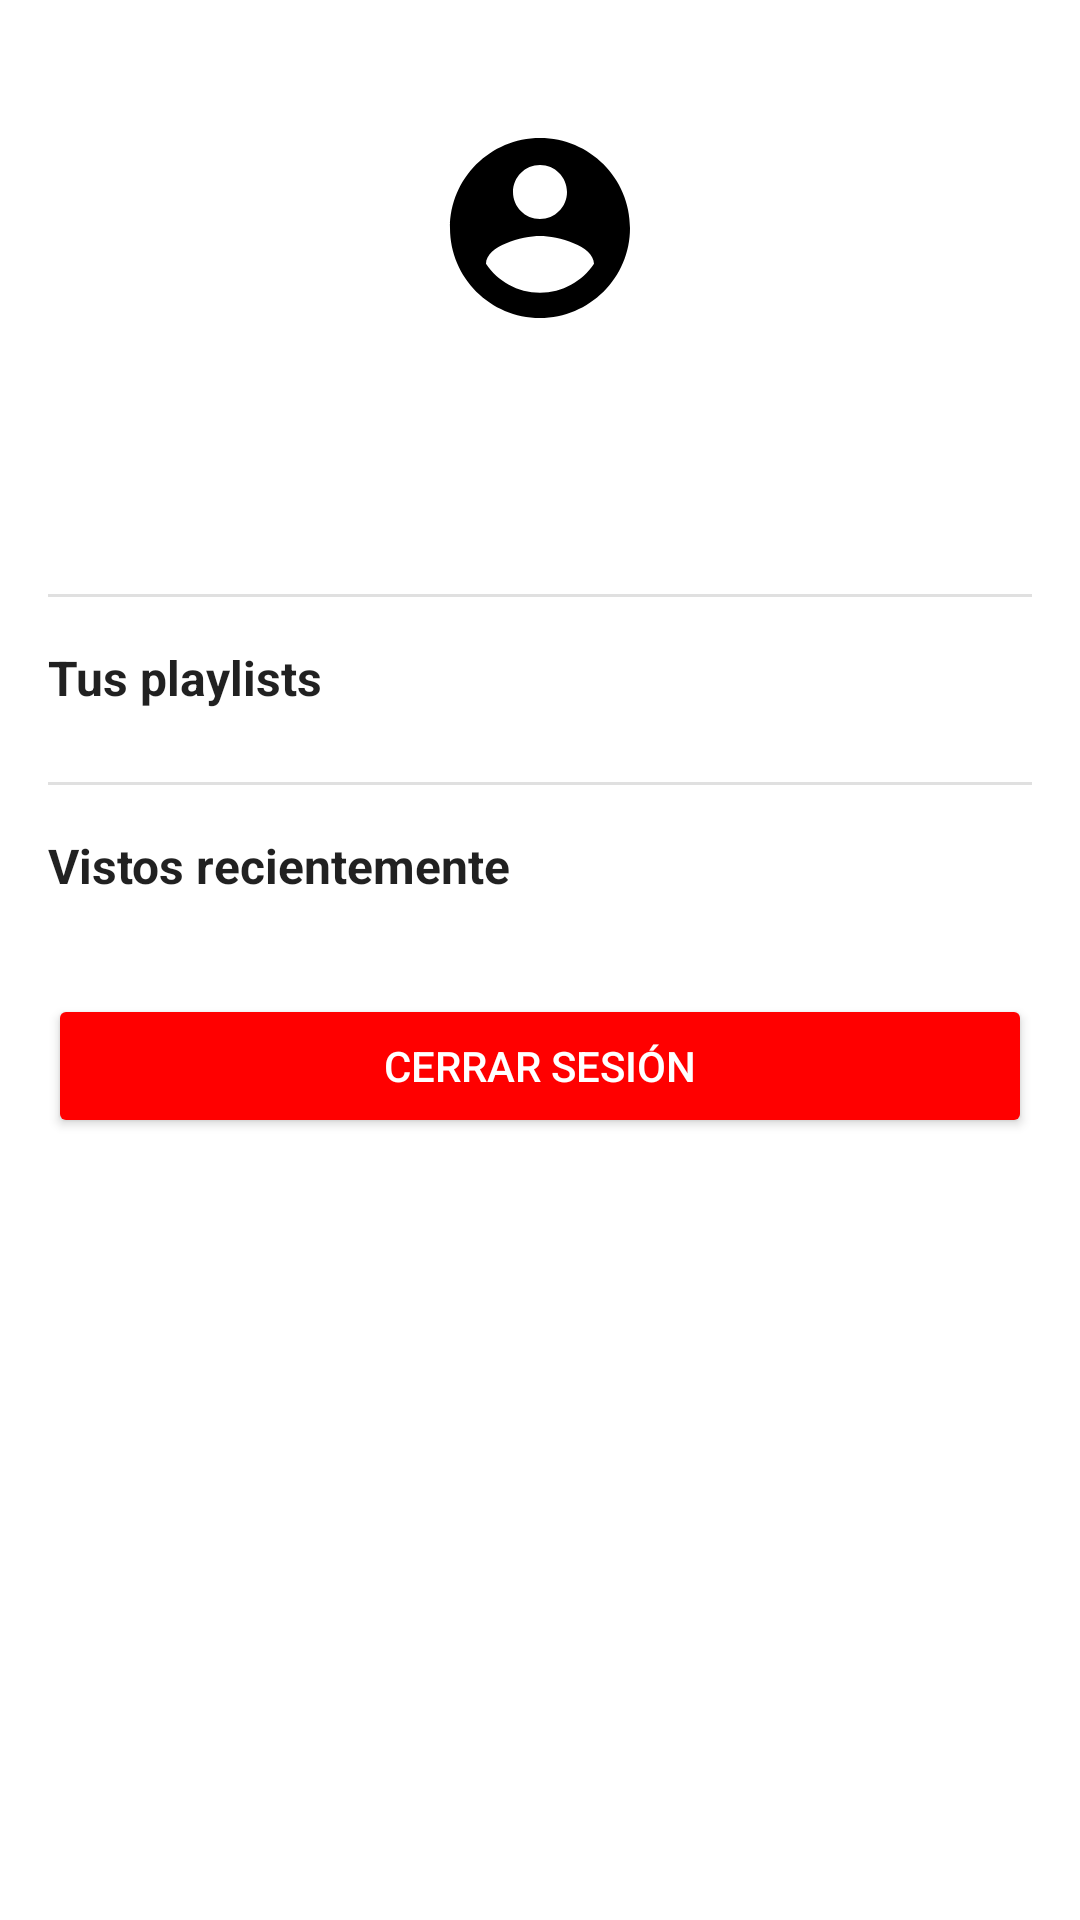

Named icons in this screenshot (1080 × 1920) and their bounding boxes, (x1, y1, x2, y2):
Avatar: (449, 138, 630, 318)
